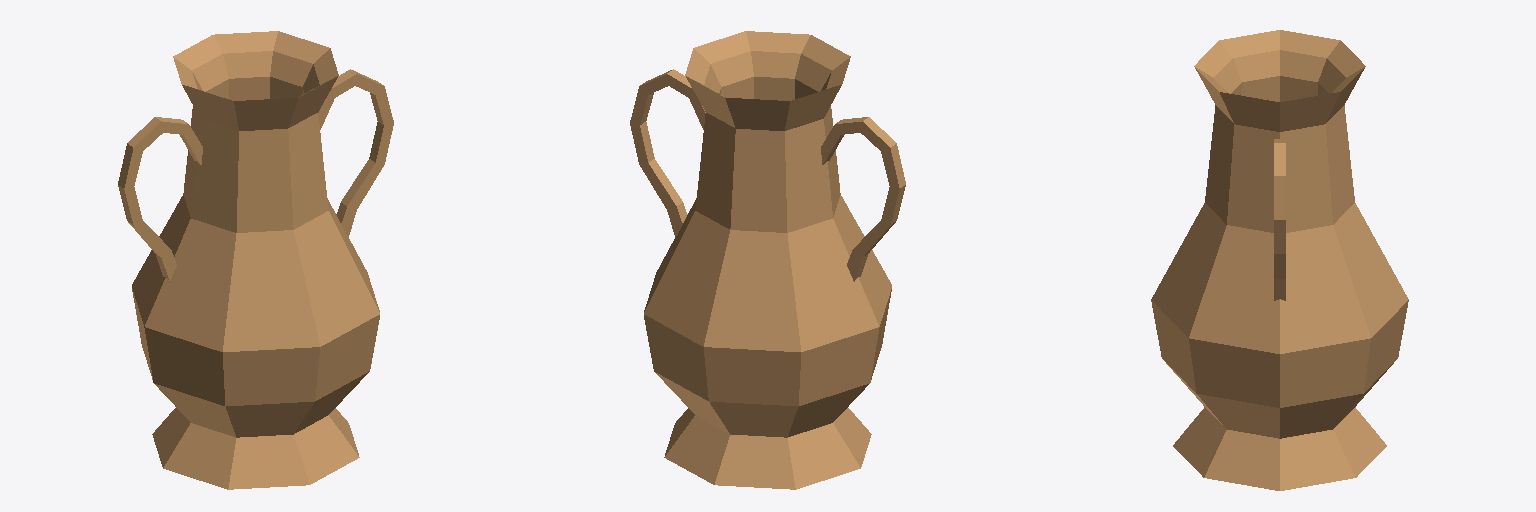
File: Prop_Vase_2.obj
3 views of the same model, side by side, from view 1: azimuth 30°, elevation 25°; view 2: azimuth 150°, elevation 25°; view 3: azimuth 270°, elevation 25° (orthographic).
Visible parts, largest first — view 1: object1; view 2: object1; view 3: object1.
Boxes of the visible parts, x1=… form: object1: x1=118, y1=31, x2=393, y2=489; object1: x1=630, y1=31, x2=905, y2=489; object1: x1=1151, y1=30, x2=1408, y2=490.
Bounding box in the file's own units: 0.3625 × 0.4875 × 0.3.